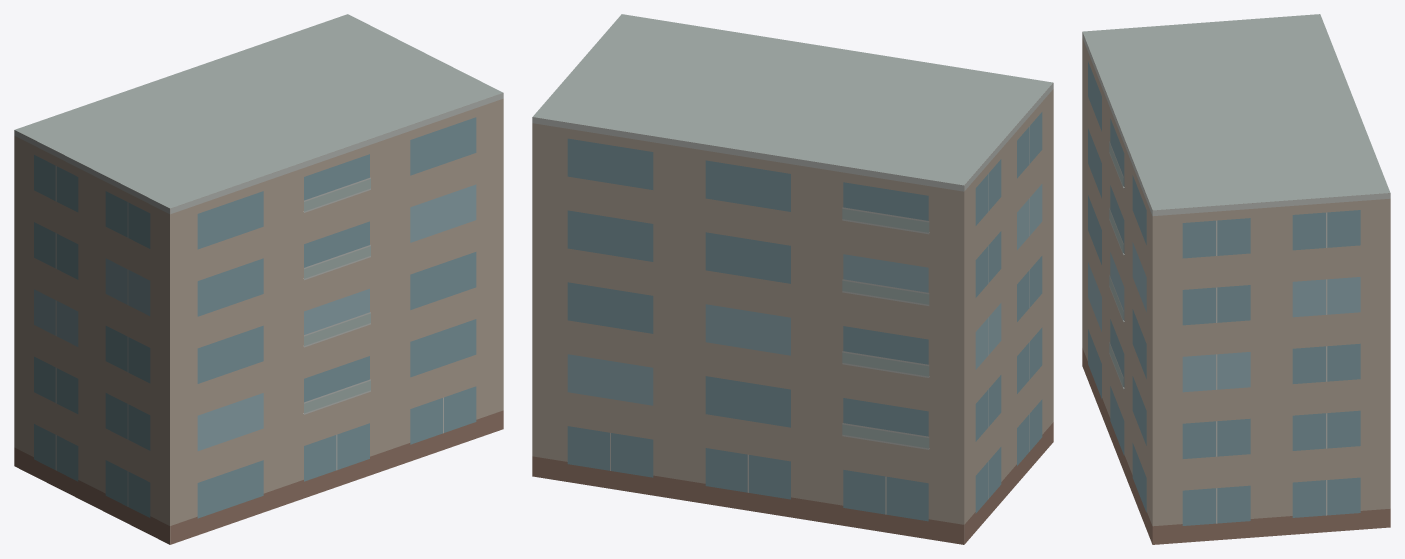
Rendered from survey-upis-32714583.glb.
3 renders of one model, left to right at view 1: azimuth 30°, elevation 25°; view 2: azimuth 150°, elevation 25°; view 3: azimuth 270°, elevation 25°, orthographic. The views are drawn at different scales.
Parts seen in each view (by area): view 1: survey-upis-32714583.tmp; view 2: survey-upis-32714583.tmp; view 3: survey-upis-32714583.tmp.
Part boxes in pixels (<box>): survey-upis-32714583.tmp: <box>14,14,503,544</box>; survey-upis-32714583.tmp: <box>532,14,1053,544</box>; survey-upis-32714583.tmp: <box>1082,14,1390,544</box>.
Size of the model in its own units: 17.77 by 14.1 by 11.78.
